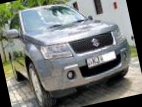car: (0, 0, 139, 107)
